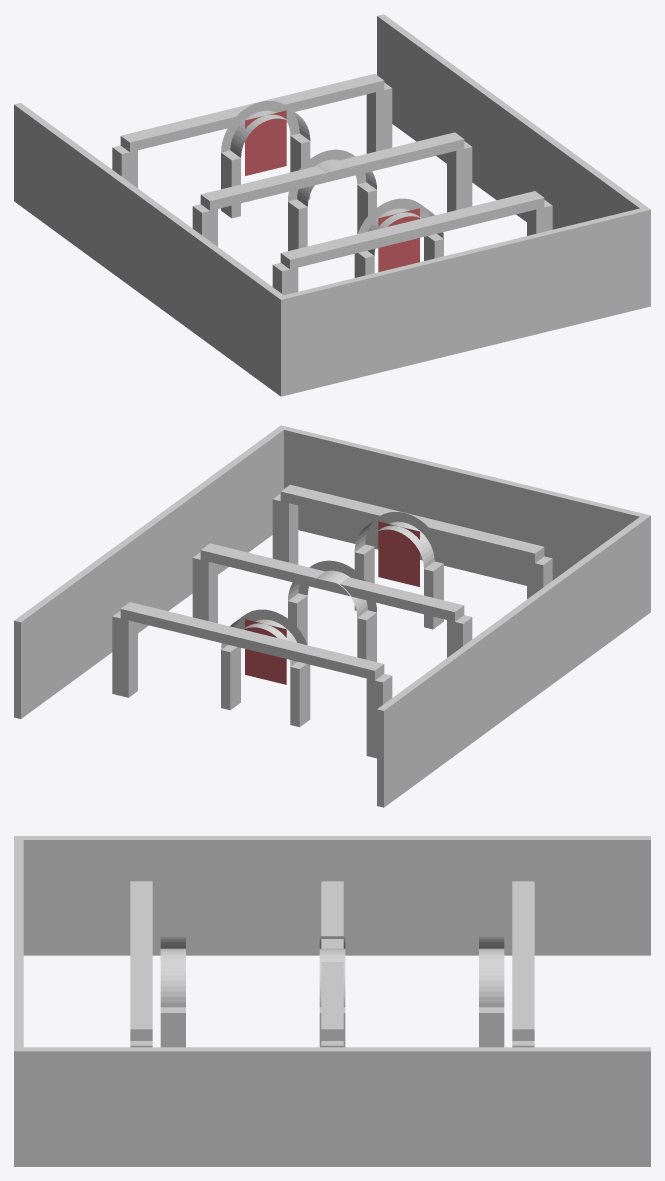
File: mini_sponza_v2.gltf
3 renders of one model, top to bottom at view 1: azimuth 30°, elevation 25°; view 2: azimuth 150°, elevation 25°; view 3: azimuth 270°, elevation 25°, orthographic. The views are drawn at different scales.
Visible parts, largest first — view 1: MiniSponza; view 2: MiniSponza; view 3: MiniSponza.
Part boxes in pixels (<box>): MiniSponza: <box>14,14,650,396</box>; MiniSponza: <box>14,425,650,807</box>; MiniSponza: <box>14,836,650,1166</box>.
Bounding box in the file's own units: 16 × 4.1 × 20.
